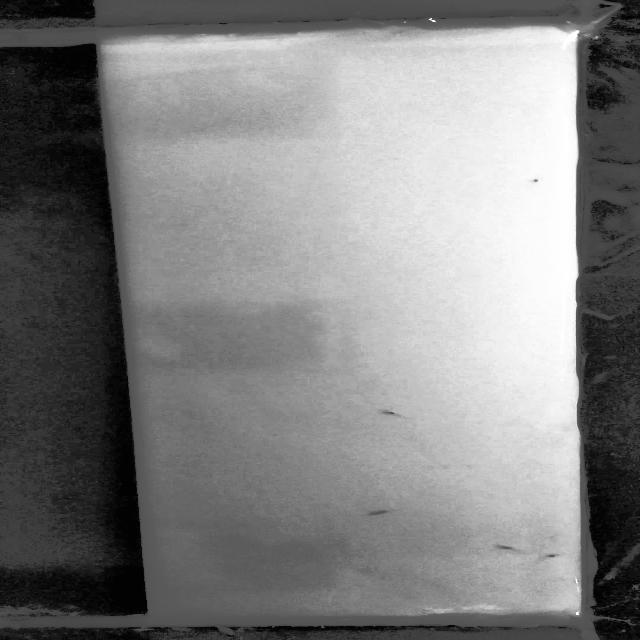shrimp: (352, 501, 405, 525), (366, 403, 421, 421), (474, 536, 520, 554), (514, 174, 557, 188), (534, 550, 574, 565)
